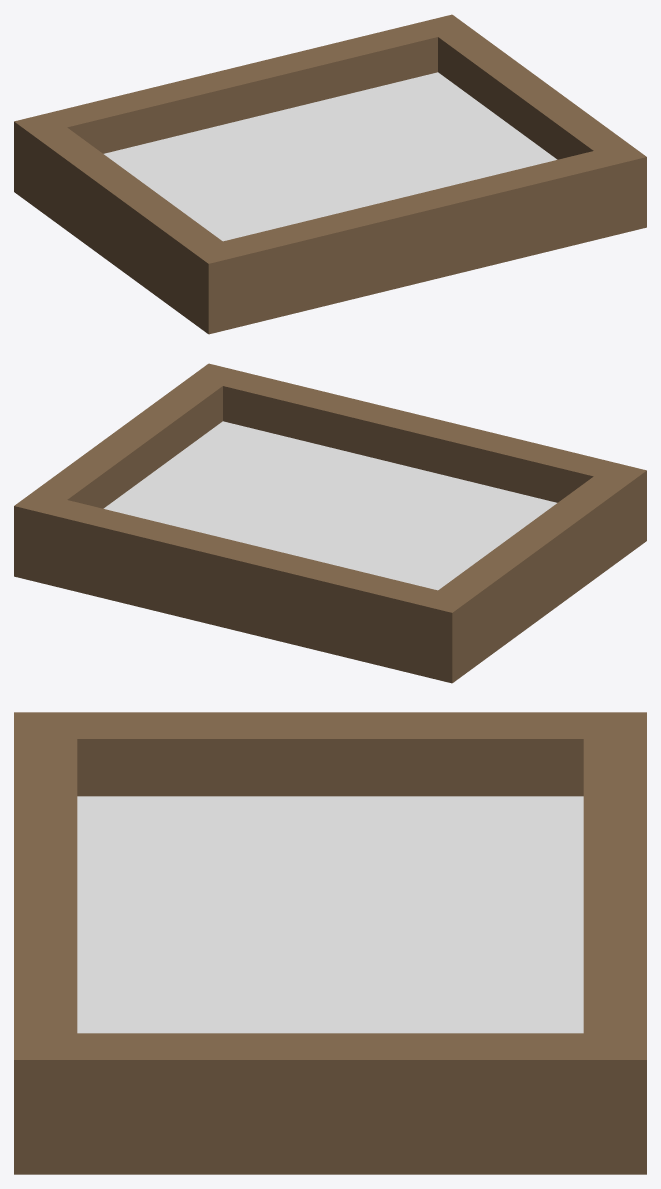
Rendered from Draw.obj.
The picture shows the model from 3 angles, top to bottom: view 1: azimuth 30°, elevation 25°; view 2: azimuth 150°, elevation 25°; view 3: azimuth 270°, elevation 25°; orthographic projection. The views are drawn at different scales.
Bounding box in the file's own units: 1.3 × 0.2 × 1.
1 material, 1 textured.
